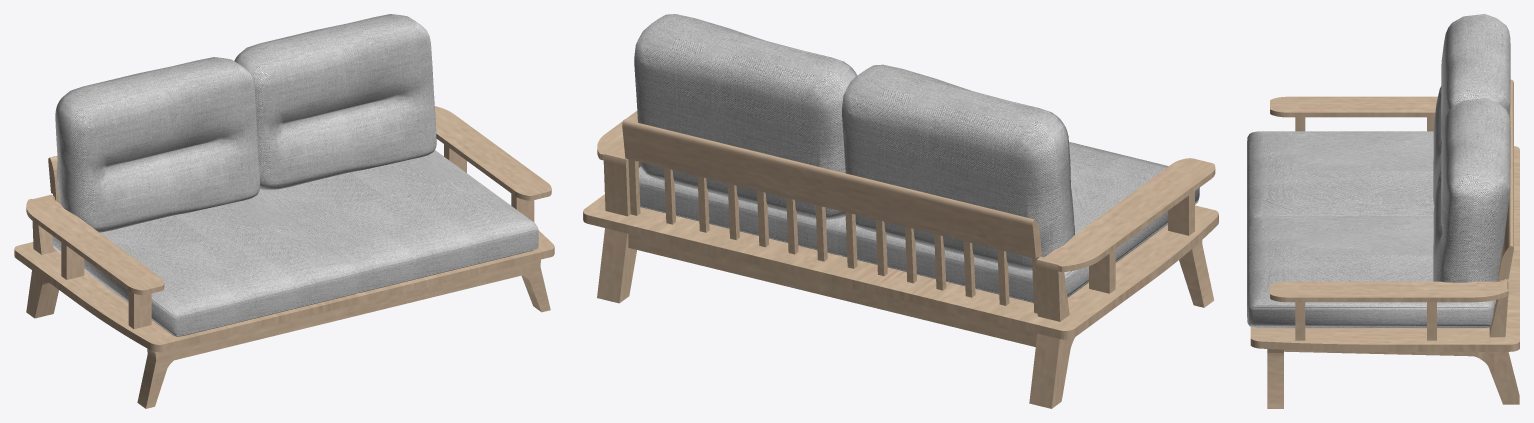
The model's file is sofa2.glb.
The picture shows the model from 3 angles, left to right: view 1: azimuth 30°, elevation 25°; view 2: azimuth 150°, elevation 25°; view 3: azimuth 270°, elevation 25°; orthographic projection. The views are drawn at different scales.
Parts seen in each view (by area): view 1: Group29, Group32, Group30, Group31, Group6, Group12, Group18, Group8, Group3, Group26, Group20, Group17 (+1 smaller); view 2: Group29, Group32, Group6, Group2, Group30, Group12, Group21, Group31, Group3, Group14, Group26, Group16 (+15 smaller); view 3: Group31, Group30, Group32, Group6, Group29, Group8, Group12, Group14, Group2, Group20, Group19, Group10.
Boxes of the visible parts, x1,y1,x2,y2 form: Group29: (55,57,260,232); Group32: (234,14,436,189); Group30: (52,194,359,336); Group31: (258,150,538,292); Group6: (14,230,554,352); Group12: (26,198,164,295); Group18: (174,264,522,360); Group8: (434,106,551,200); Group3: (26,194,58,318); Group26: (137,348,174,408); Group20: (521,259,550,312); Group17: (128,291,151,329); Group29: (842,64,1074,270); Group32: (634,14,857,219); Group6: (583,194,1218,339); Group2: (622,119,1041,258); Group30: (838,142,1199,302); Group12: (1044,158,1215,272); Group21: (628,234,1037,346); Group31: (638,166,845,255); Group3: (1029,256,1074,408); Group14: (597,151,636,303); Group26: (1179,240,1214,307); Group16: (1089,249,1115,293); Group31: (1247,216,1494,328); Group30: (1247,131,1434,224); Group32: (1433,98,1510,282); Group6: (1250,146,1519,351); Group29: (1433,14,1510,205); Group8: (1270,281,1508,302); Group12: (1270,96,1437,117); Group14: (1284,280,1519,404); Group2: (1498,79,1513,279); Group20: (1267,349,1283,408); Group19: (1295,302,1305,340); Group10: (1427,302,1436,340).
Bounding box in the file's own units: 1.88 × 0.9754 × 1.08.
Materials: 2 (2 with a texture image).
